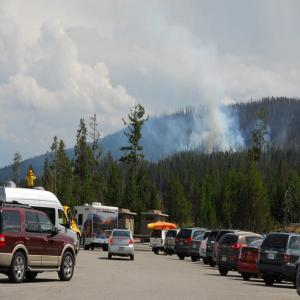Vehicle-registration-plate: (119, 247, 125, 252), (222, 258, 227, 263), (270, 255, 275, 260), (247, 257, 253, 261), (194, 245, 197, 248), (202, 250, 205, 253)
